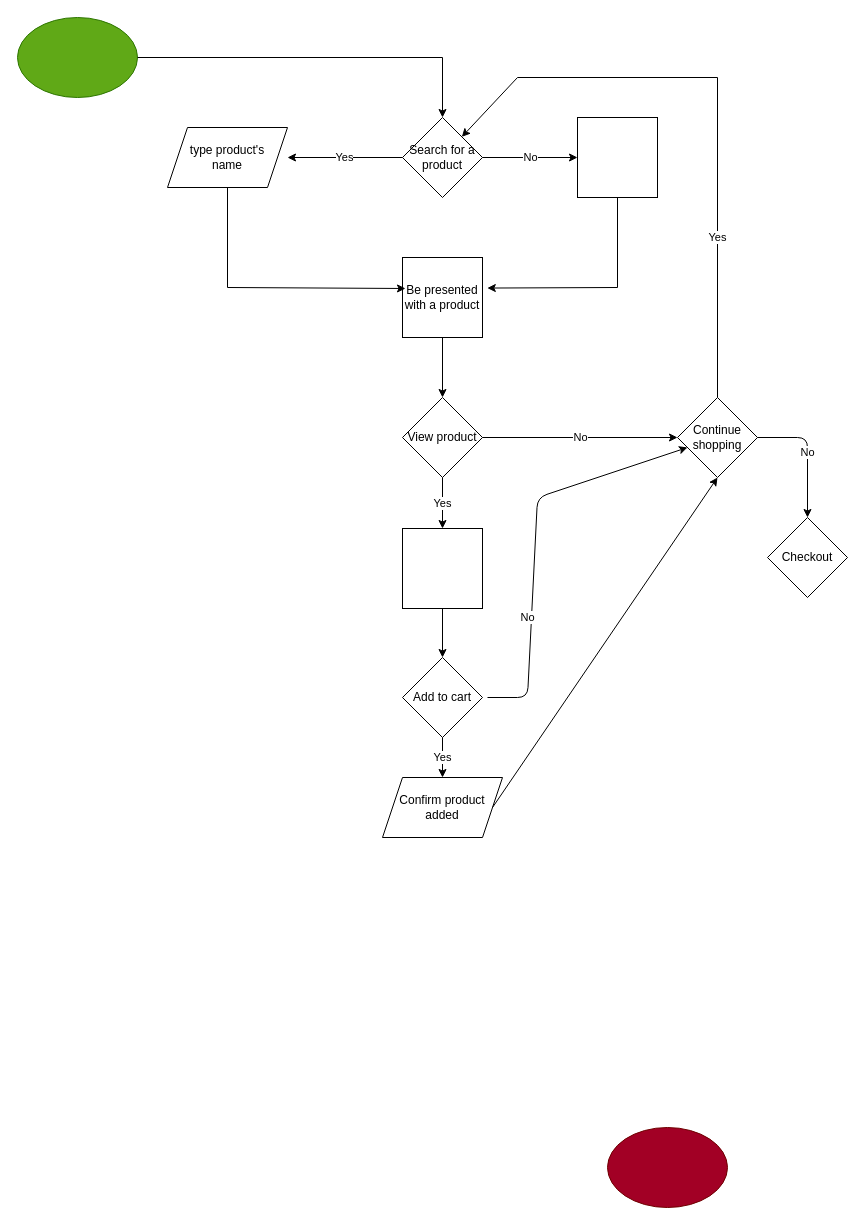
The diagram is 865 pixels wide and 1225 high, and some of its shapes have lost their labels. The shapes that lost their labels are listed below. From the top down, each one's centre as x and y in pixels, then its label:
At (x=77, y=57): "Enter website".
At (x=617, y=157): "Explore website".
At (x=442, y=568): "Product's page".
At (x=667, y=1167): "Leave website".
